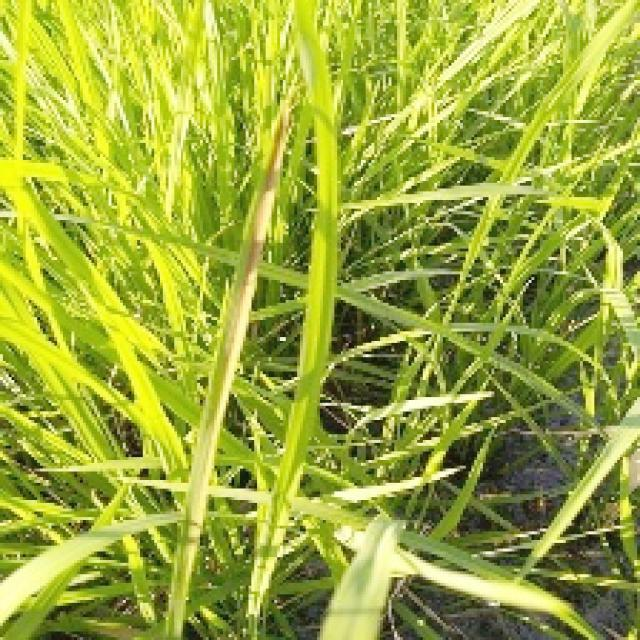-: (0, 0, 194, 494)
